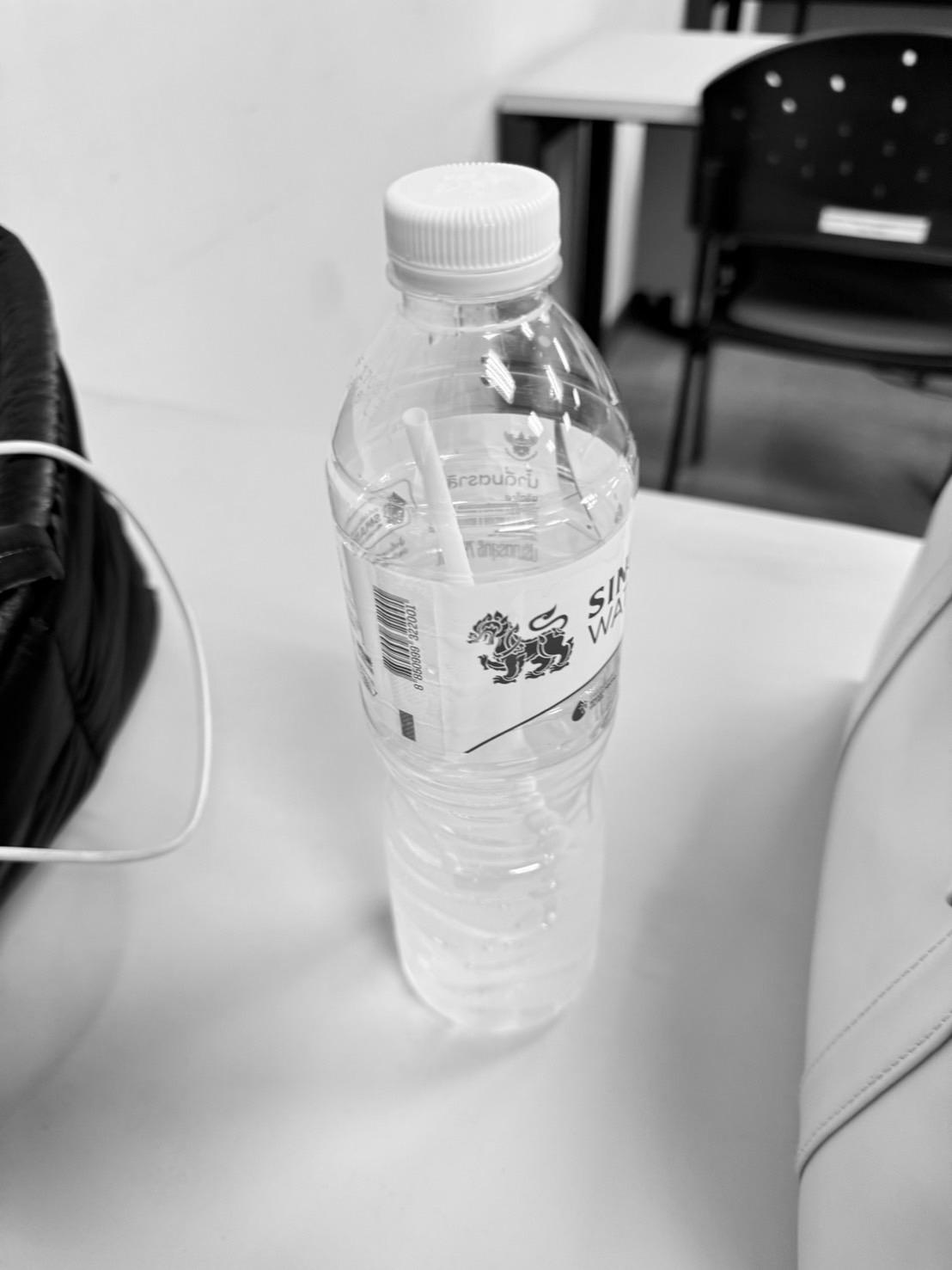bottle: (326, 164, 638, 1034)
